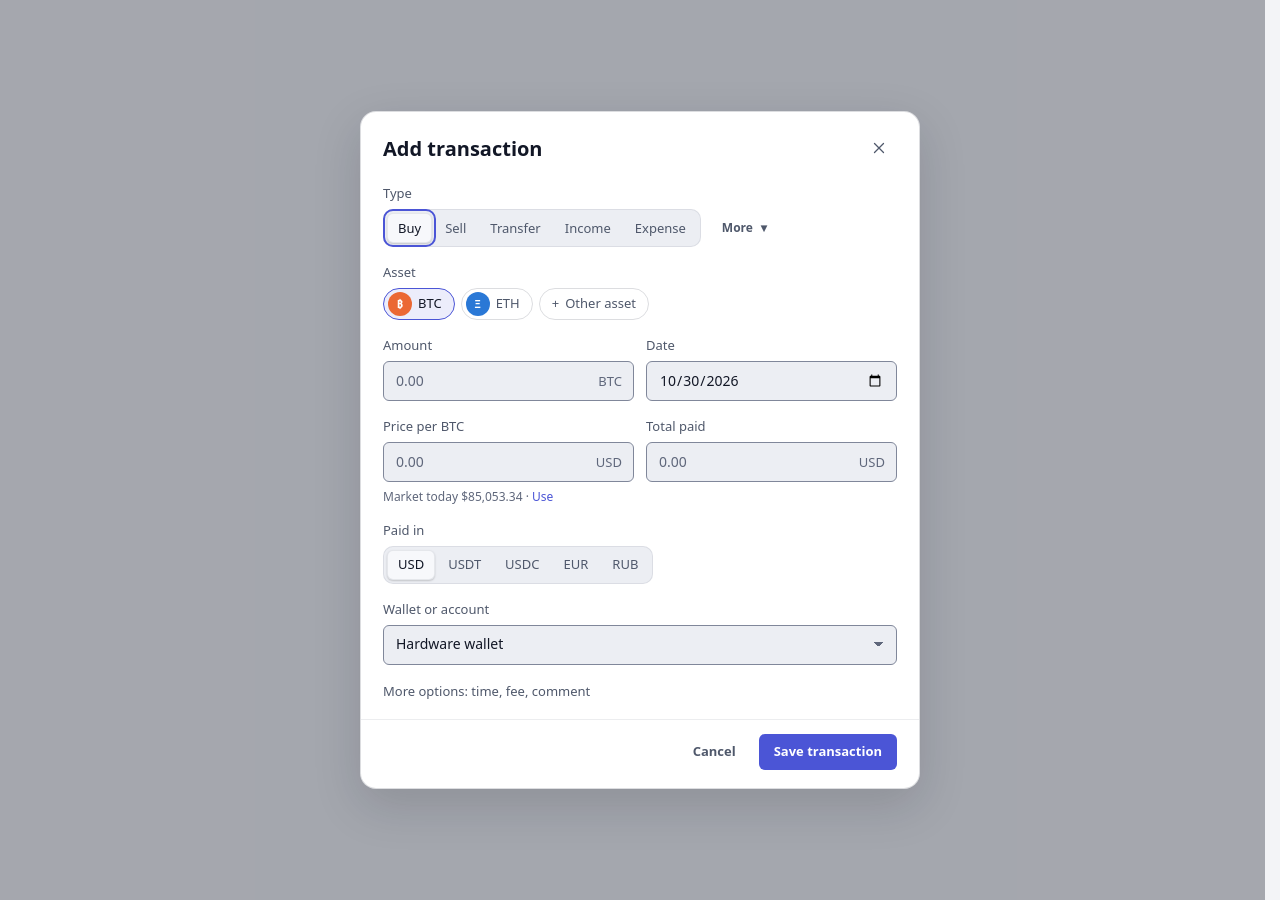
Test: CUR-PAID-RUB the Add transaction window › checks a typed date when the date field loses focus and clears the problem once fixed
Check: the element "asset" is shown, box [383,288,649,320]
In the date field labelled "Date": (772, 381) [646,361,897,401], type "2999-01-01"
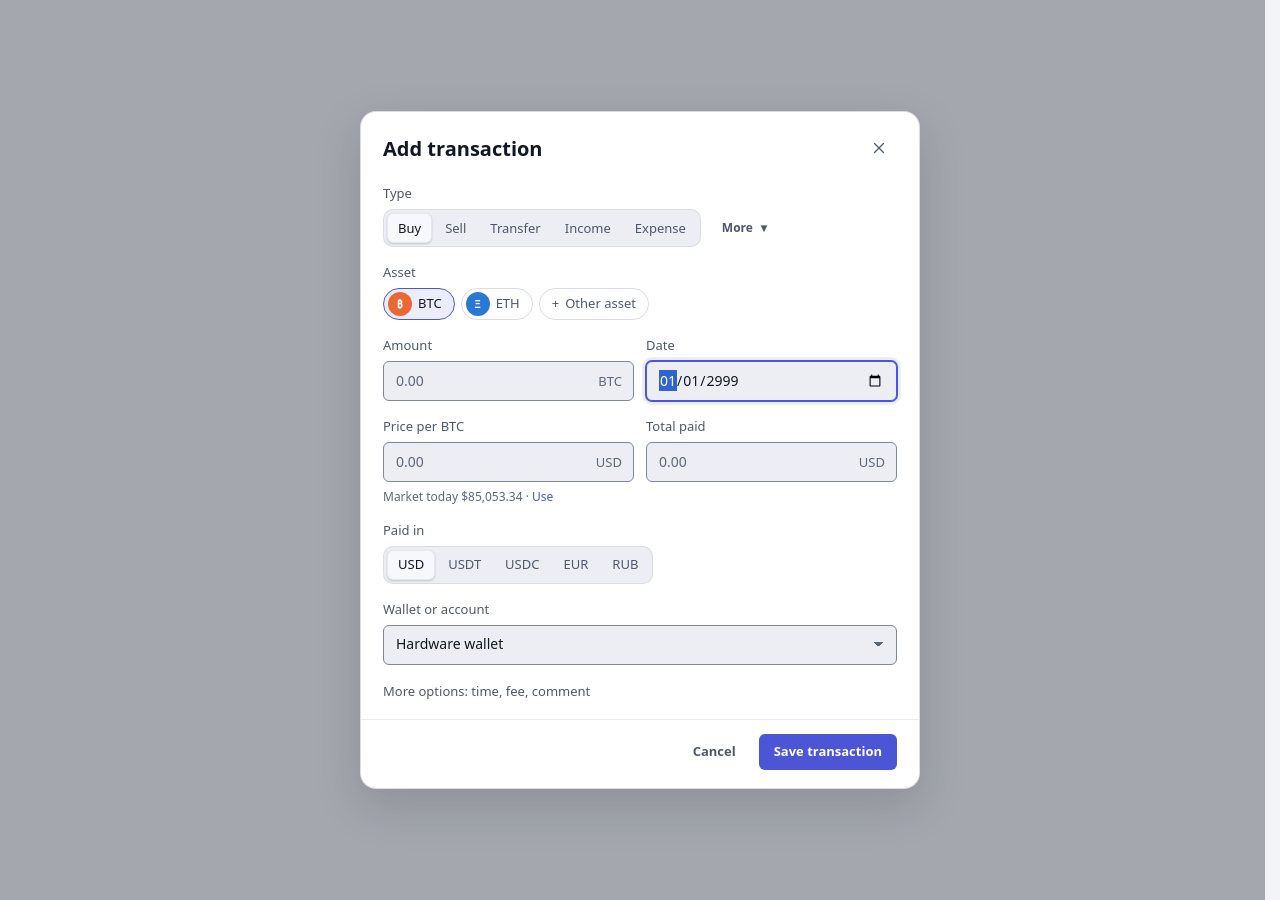
Check: the text "Choose a date, today or earlier" is not shown
Press Tab
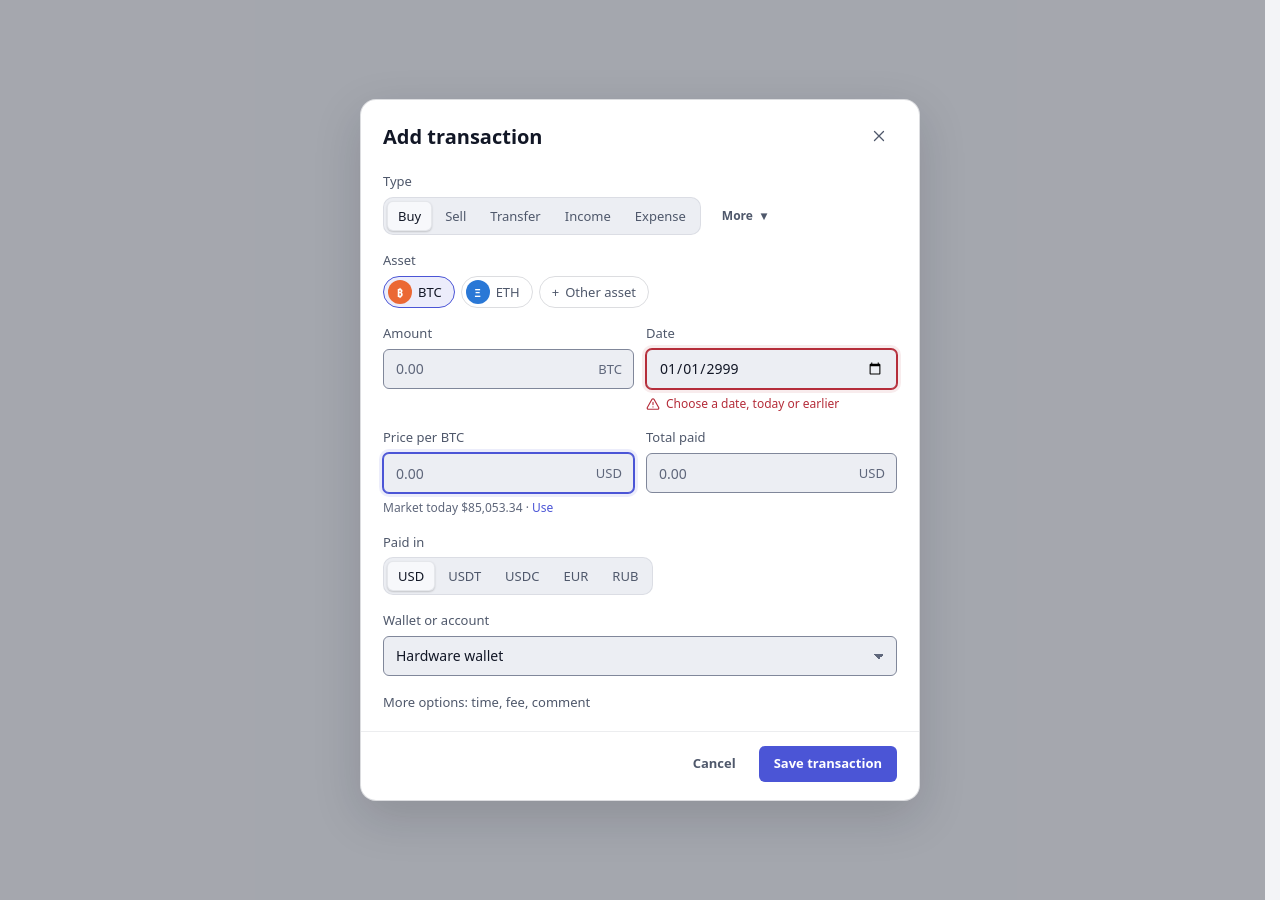
Check: the text "Choose a date, today or earlier" is shown, box [666,395,839,412]
In the date field labelled "Date": (772, 369) [646,349,897,389], type "2025-06-08"
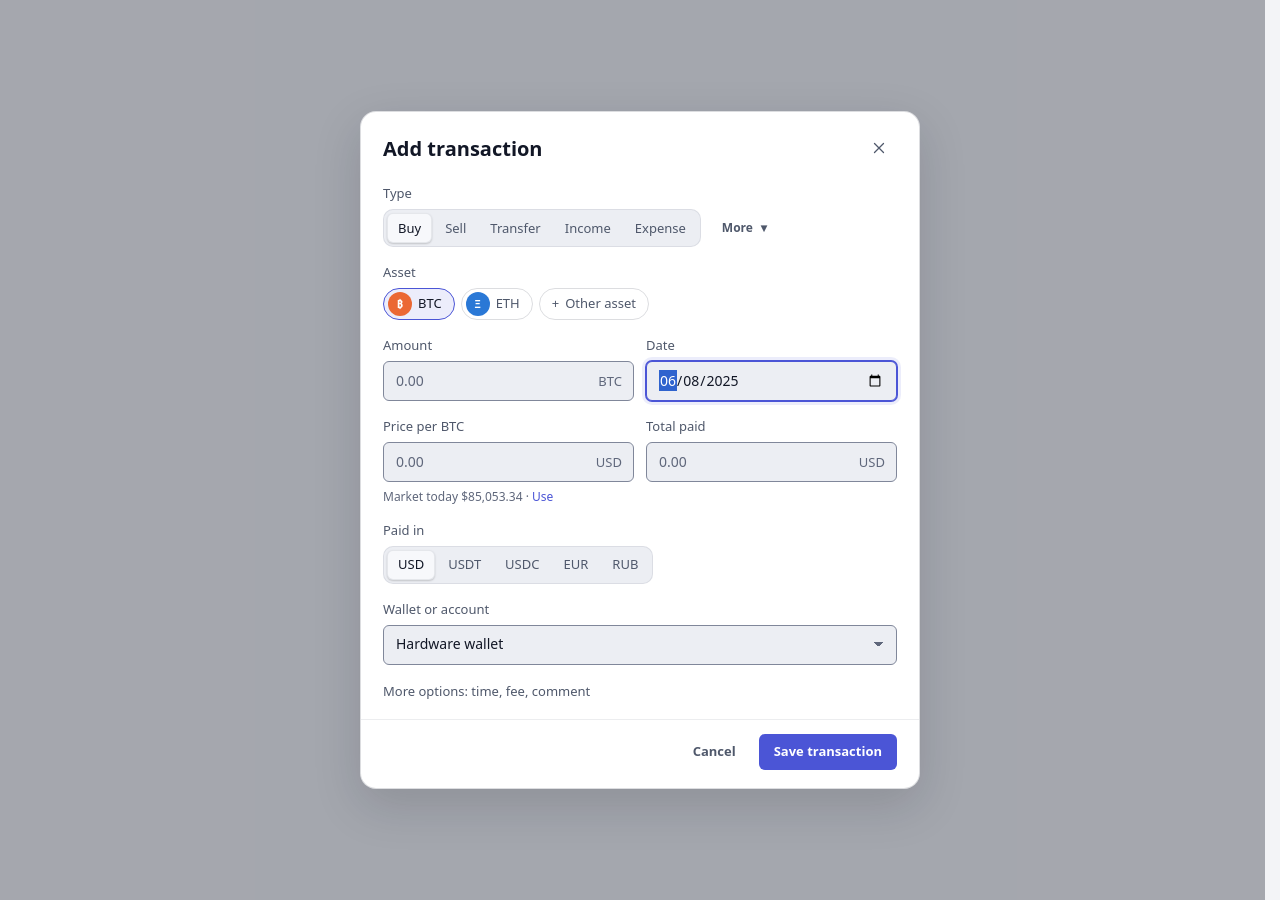
Check: the text "Choose a date, today or earlier" is gone
